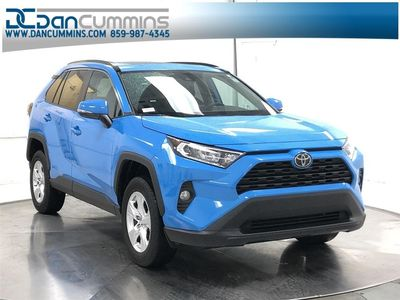Toyota RAV-4: (25, 58, 368, 270)
